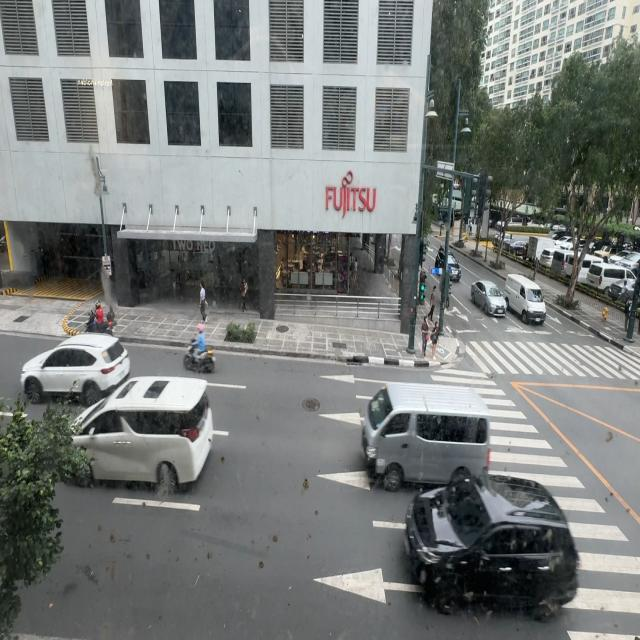waiting: (421, 316, 431, 356), (429, 322, 439, 358)
